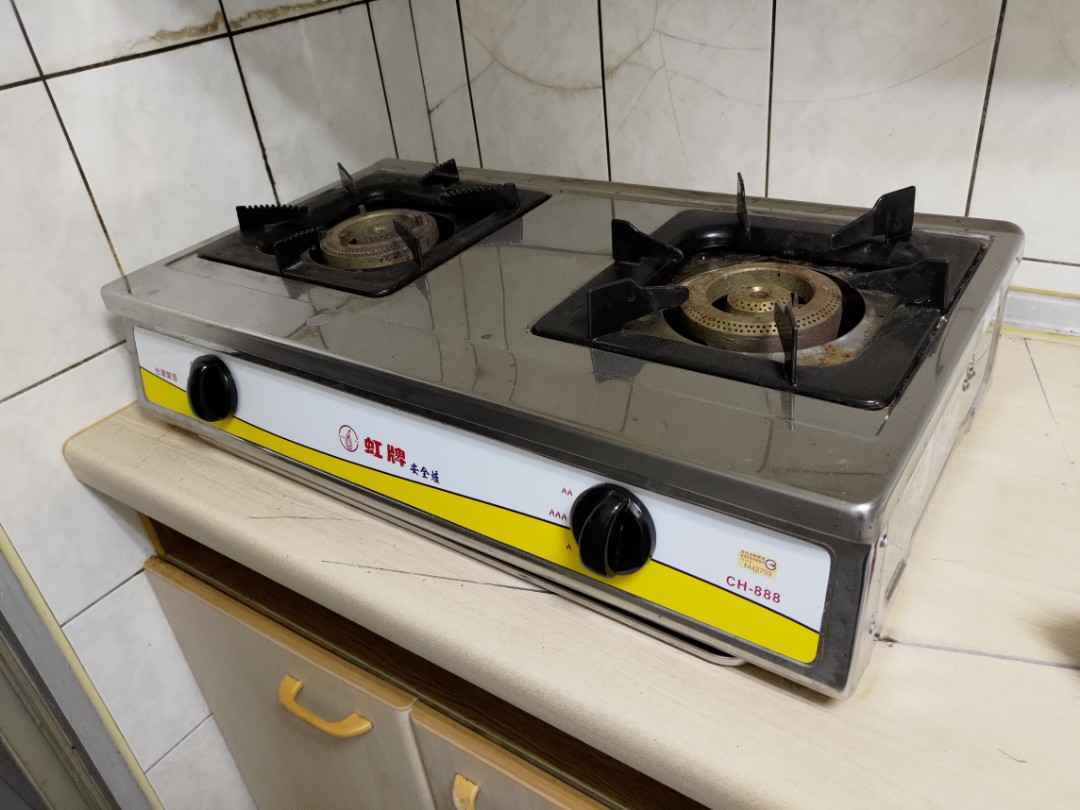gasoven: (97, 152, 1031, 711)
